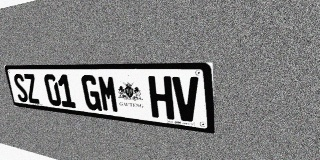0: (43, 74, 62, 107)
1: (56, 74, 76, 108)
G: (80, 75, 102, 111)
H: (148, 76, 174, 120)
M: (97, 75, 120, 113)
S: (12, 74, 29, 103)
V: (172, 76, 200, 123)
Z: (23, 74, 40, 104)
